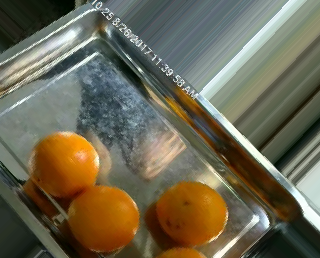Orange: (155, 179, 229, 246), (64, 185, 140, 250), (26, 131, 100, 197)
